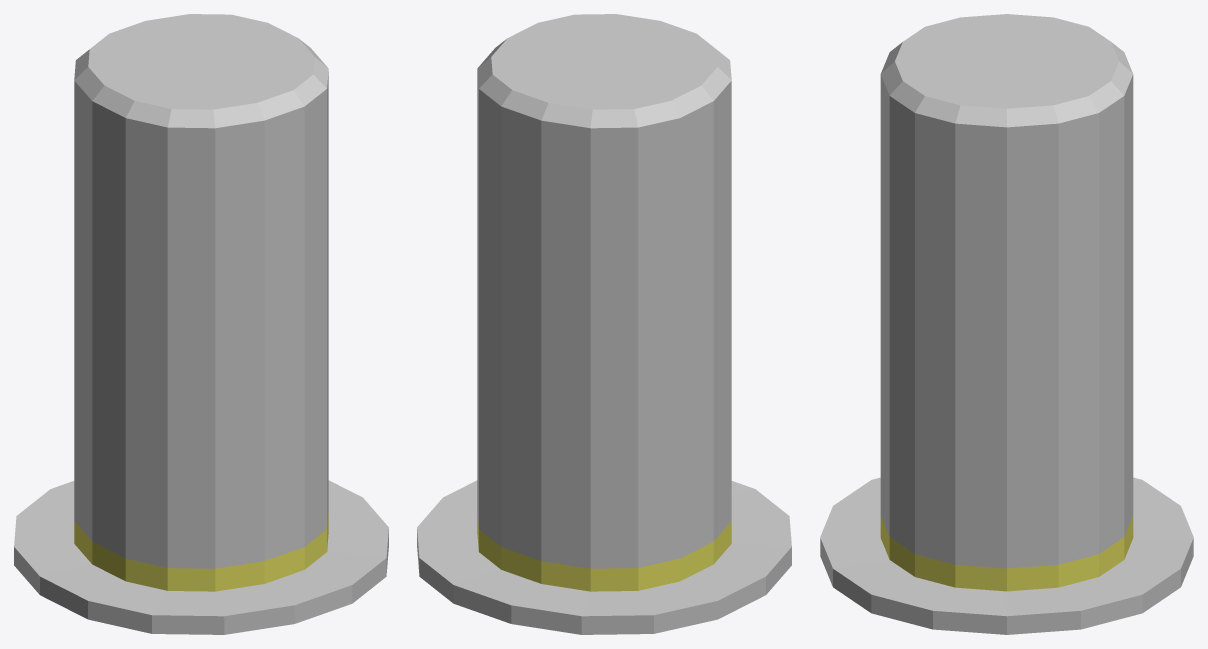
Rendered from TallTophat.glb.
3 views of the same model, side by side, from view 1: azimuth 30°, elevation 25°; view 2: azimuth 150°, elevation 25°; view 3: azimuth 270°, elevation 25° (orthographic).
Visible parts, largest first — view 1: Cube; view 2: Cube; view 3: Cube.
Part boxes in pixels (x1=…): Cube: x1=14, y1=14, x2=388, y2=634; Cube: x1=417, y1=14, x2=791, y2=634; Cube: x1=820, y1=14, x2=1193, y2=634.
Bounding box in the file's own units: 0.5067 × 0.74 × 0.5067.
